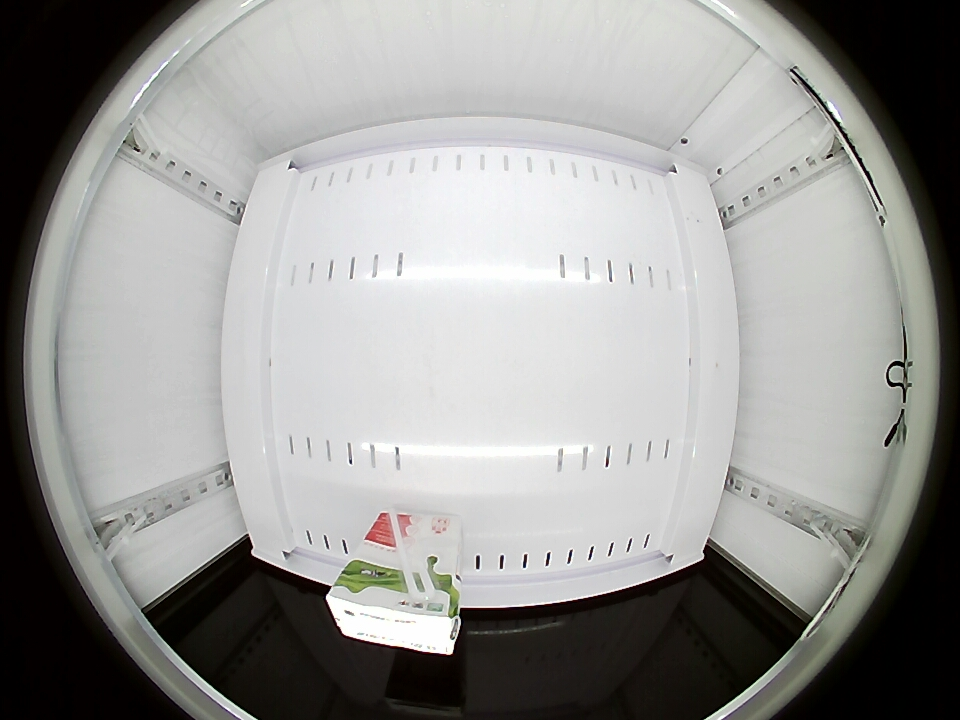mengniu: (326, 569, 461, 656)
